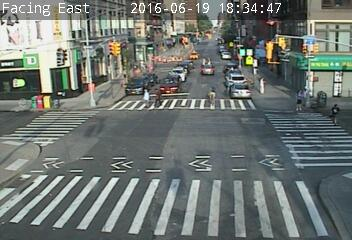neg: (162, 149, 182, 176), (217, 19, 233, 40), (61, 150, 76, 170), (56, 63, 71, 82), (193, 154, 207, 173), (95, 40, 109, 59), (254, 21, 268, 39), (280, 37, 293, 54), (145, 24, 154, 36), (184, 18, 191, 27)
pos: (288, 83, 309, 112), (325, 100, 344, 125), (203, 85, 220, 109), (150, 87, 166, 109), (138, 87, 154, 108), (253, 75, 268, 94)
